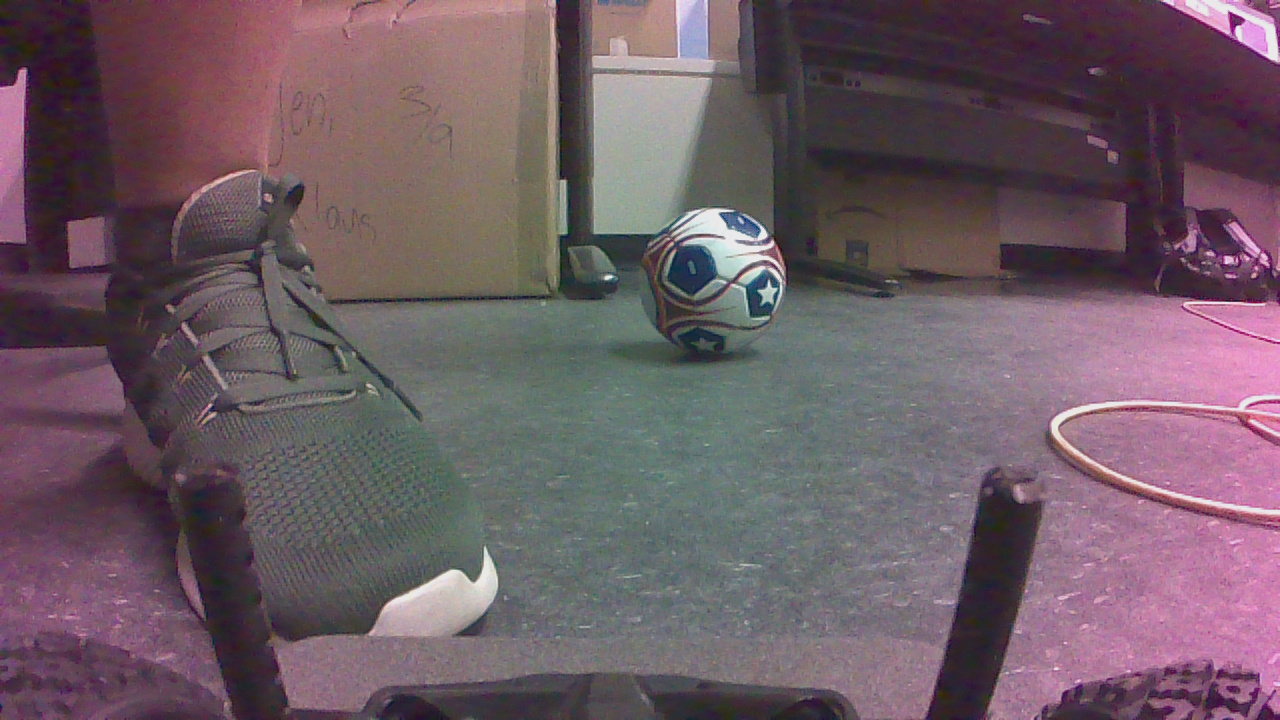ball: (643, 205, 794, 366)
